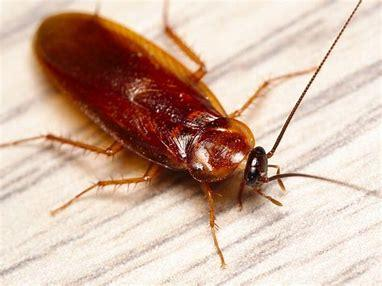cockroach: (0, 0, 326, 263)
